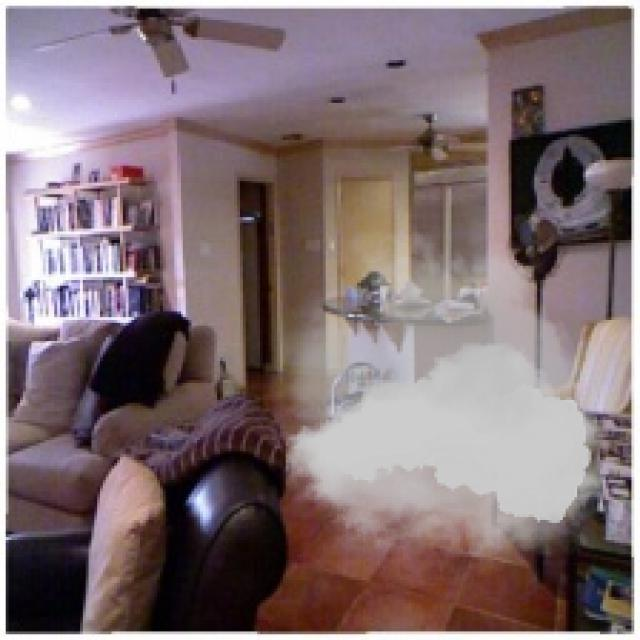smoke: (263, 208, 614, 586)
